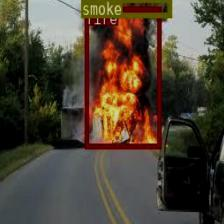fire: (84, 6, 160, 148)
smoke: (81, 0, 172, 16)
